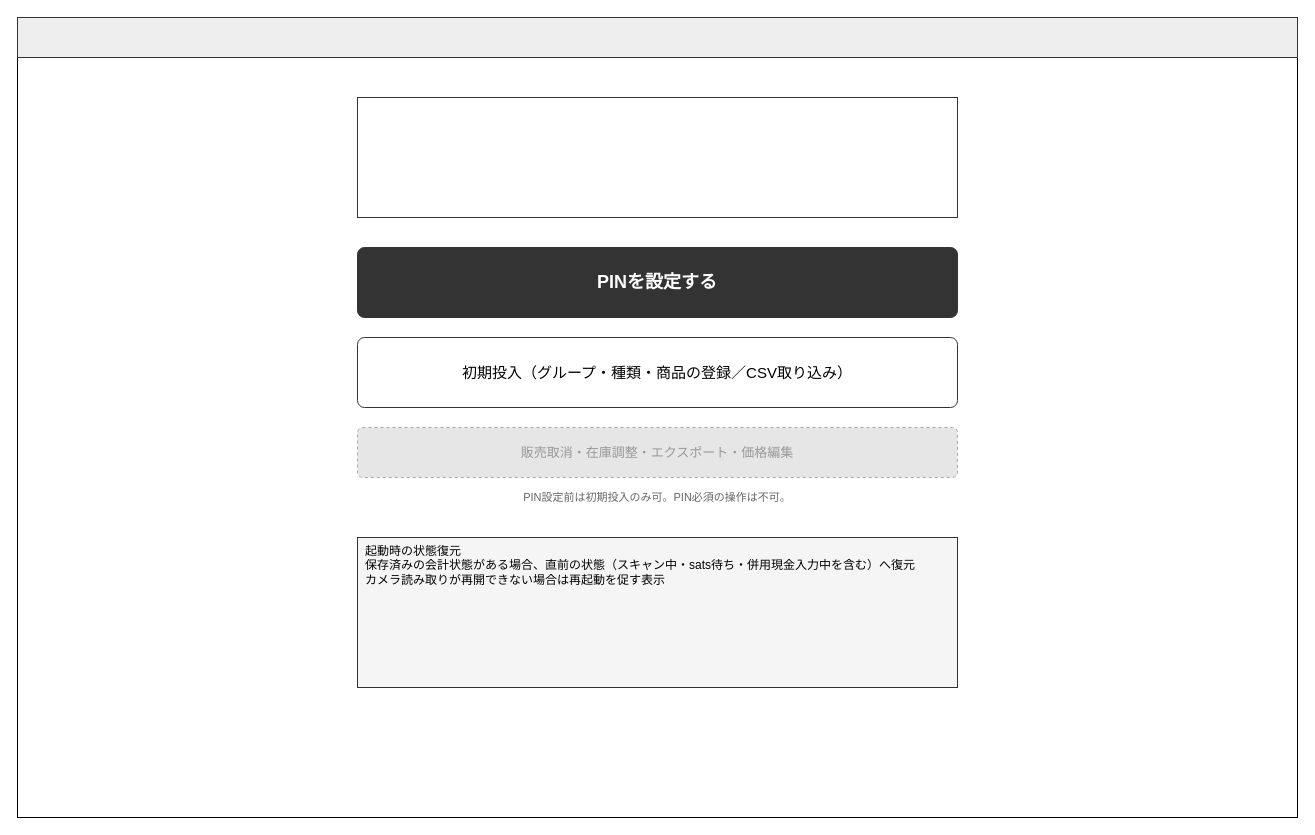
This 1315x835 diagram has some shape labels left out. Each missing label, with the centre of its shape:
アプリ起動 PINが未設定です: (x=657, y=157)
起動 ｜ 状態: PIN未設定: (x=657, y=37)
